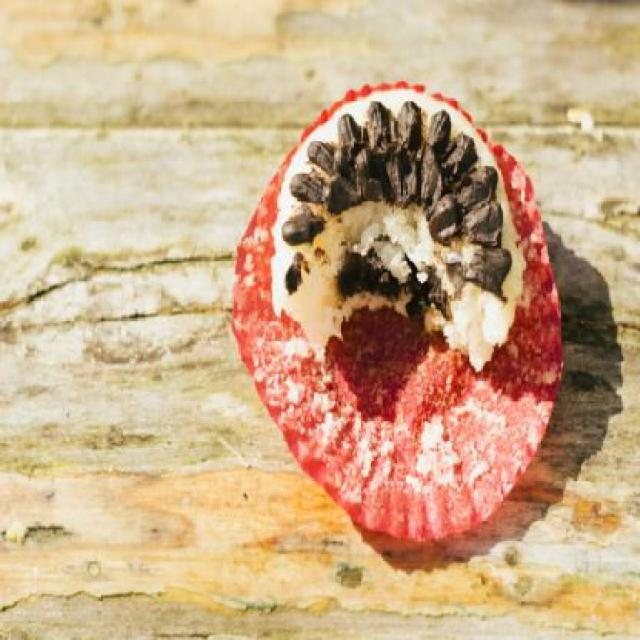Cookie: (268, 83, 527, 371)
